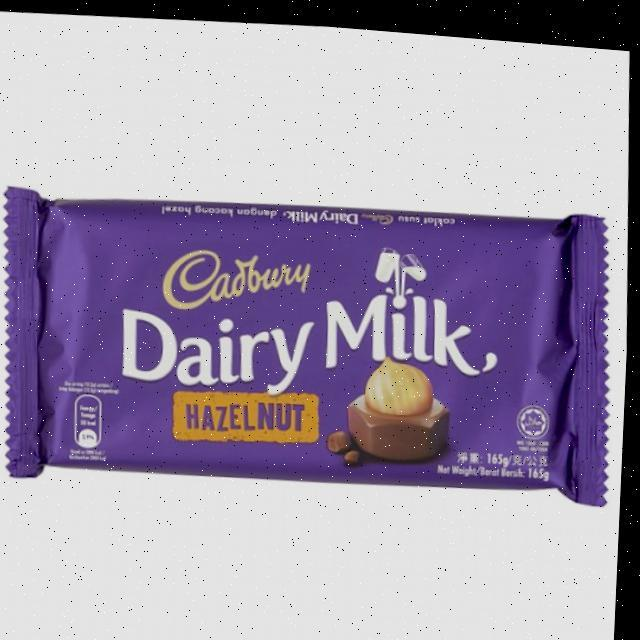cadbury_chocolate: (10, 188, 610, 494)
